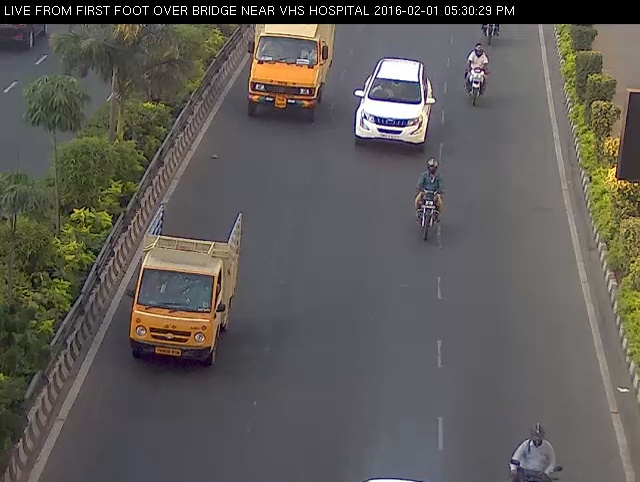Bus: (234, 16, 334, 133)
Car: (124, 200, 248, 379), (349, 50, 441, 155)
Person: (501, 409, 574, 482), (407, 148, 448, 248), (460, 42, 495, 114)
